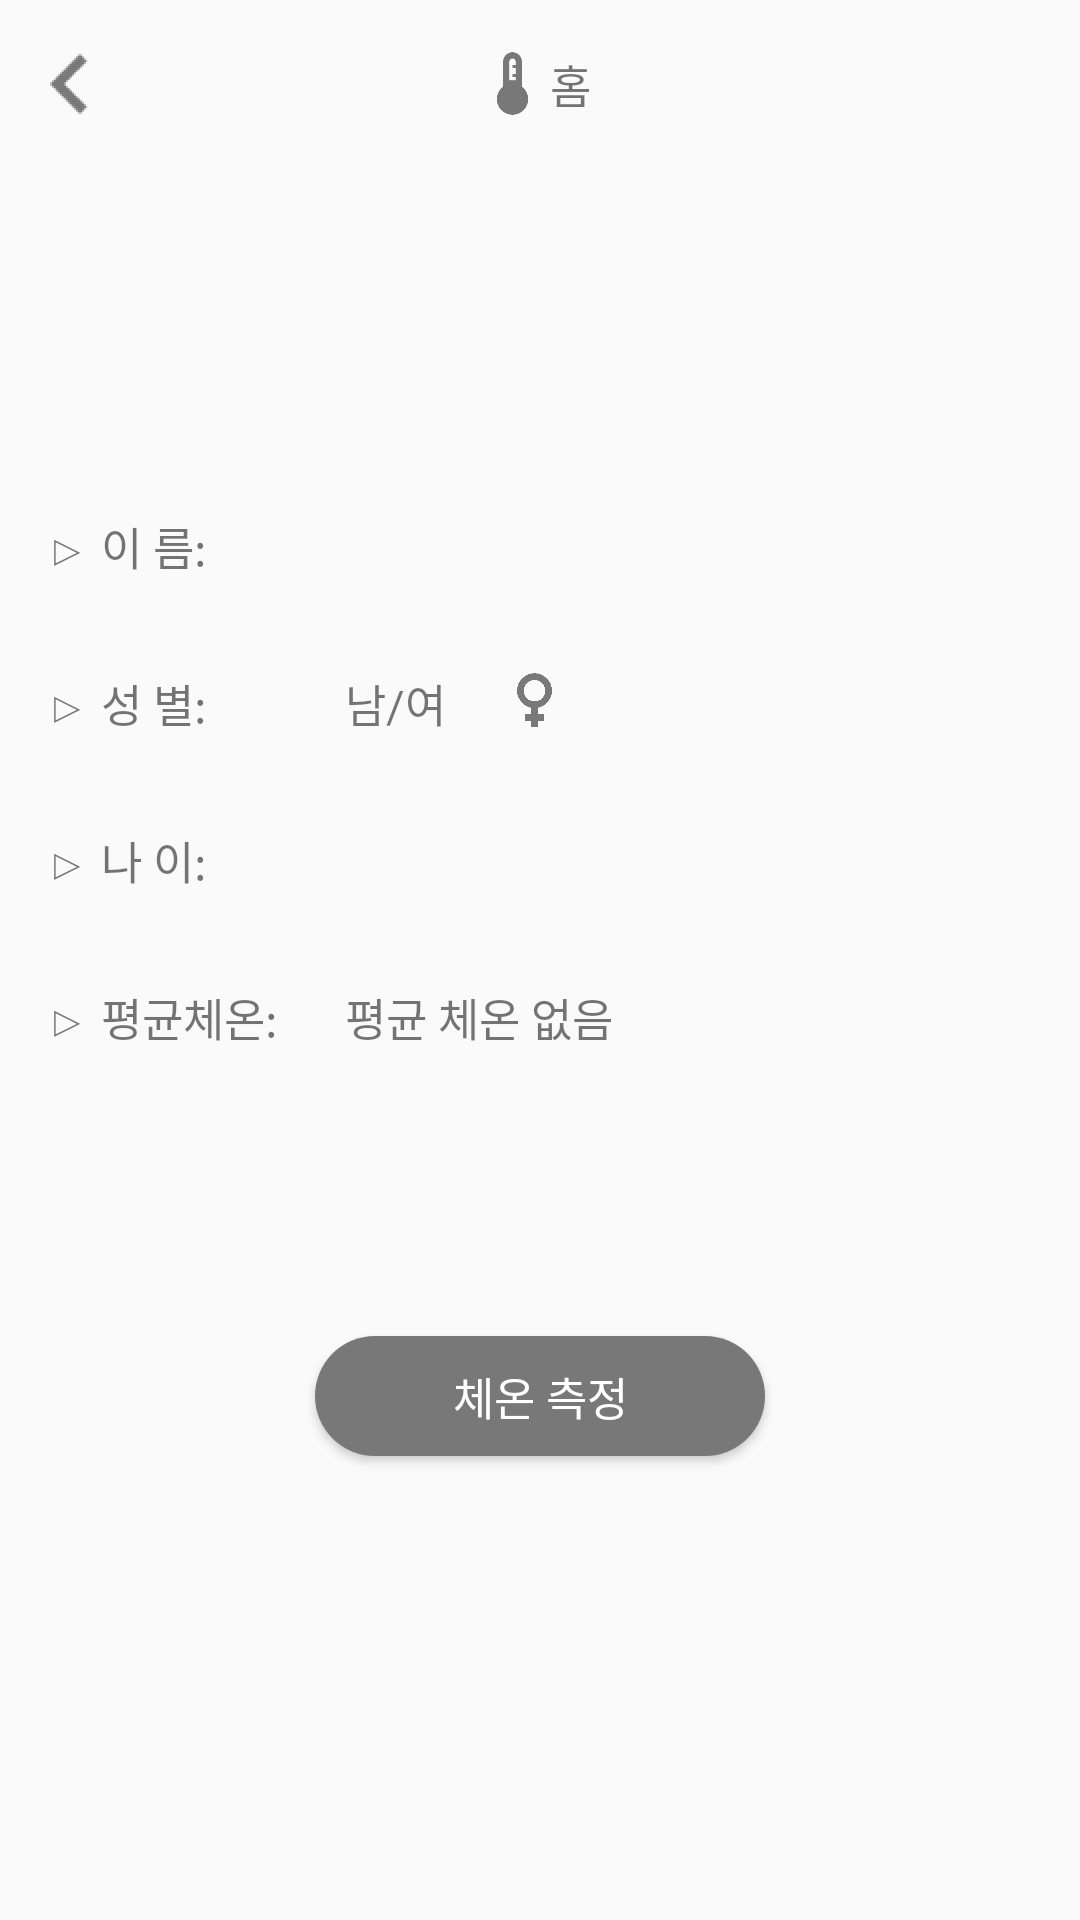

Screen size 1080 × 1920. Icon name, then its center in pixels as (x=x, y=y):
female: (x=534, y=700)
left: (x=69, y=84)
therma: (x=512, y=83)
